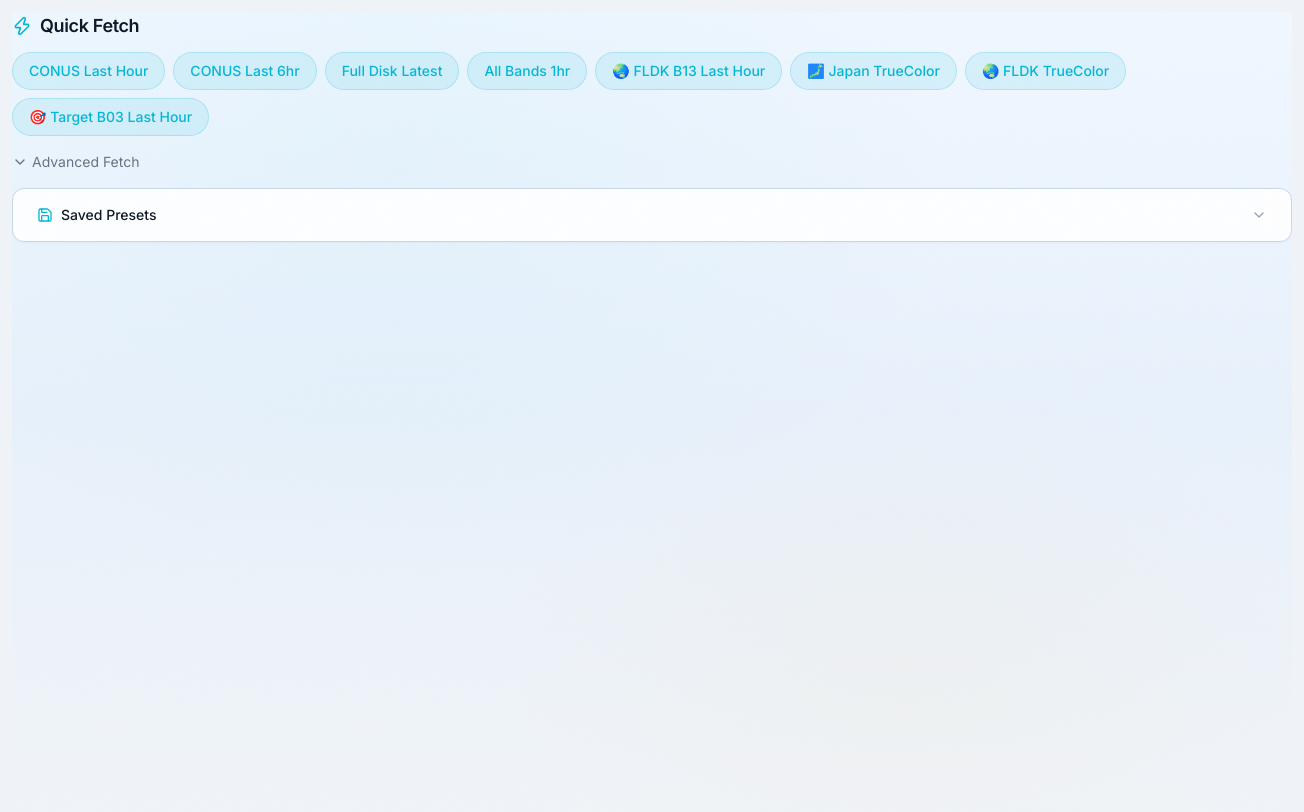
FetchFlowComplete › step navigation via step indicators
This screenshot has width=1304, height=812.
Step 1. Click the button with test id "advanced-fetch-toggle" → [76, 162], box [12,152,140,172]
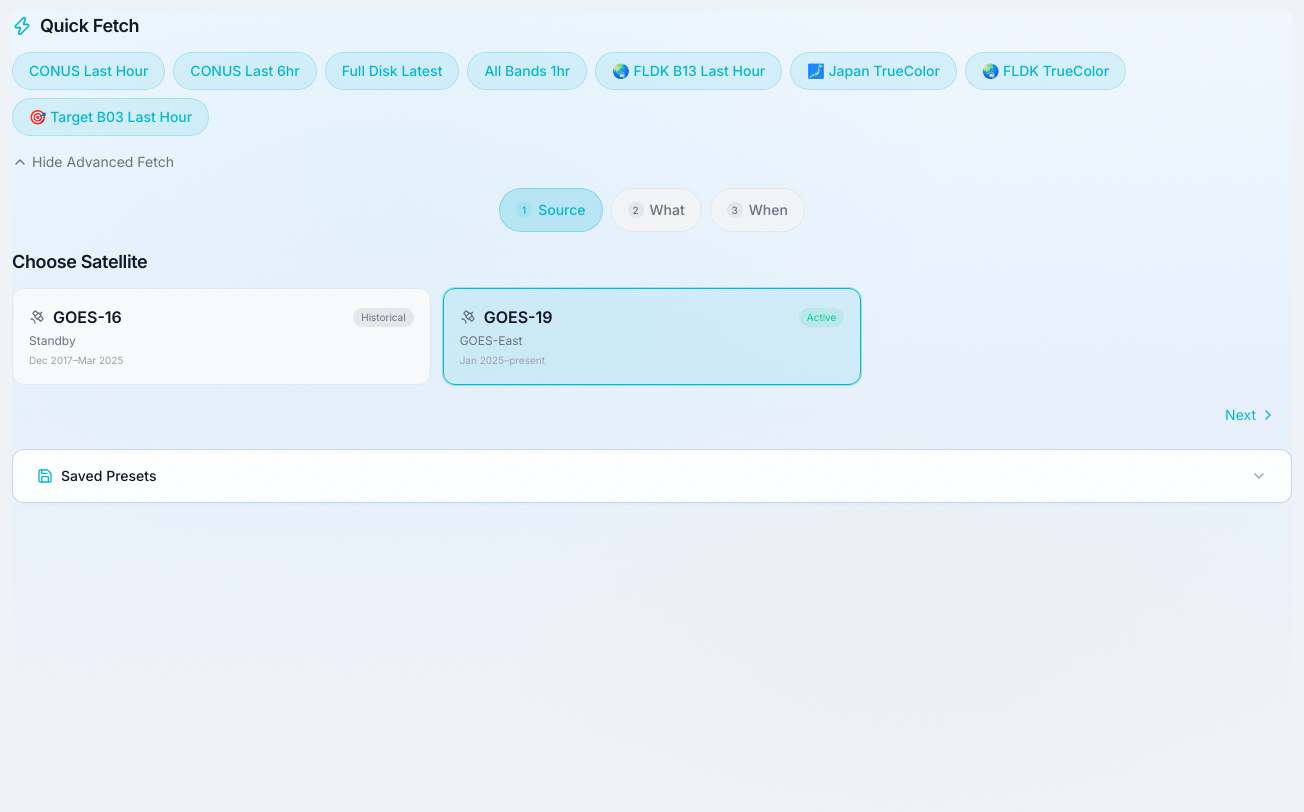
Result: the heading "Choose Satellite" is shown at [12,251,147,272]
Step 2. Click the button "3 When" → [757, 210], box [710,188,805,232]
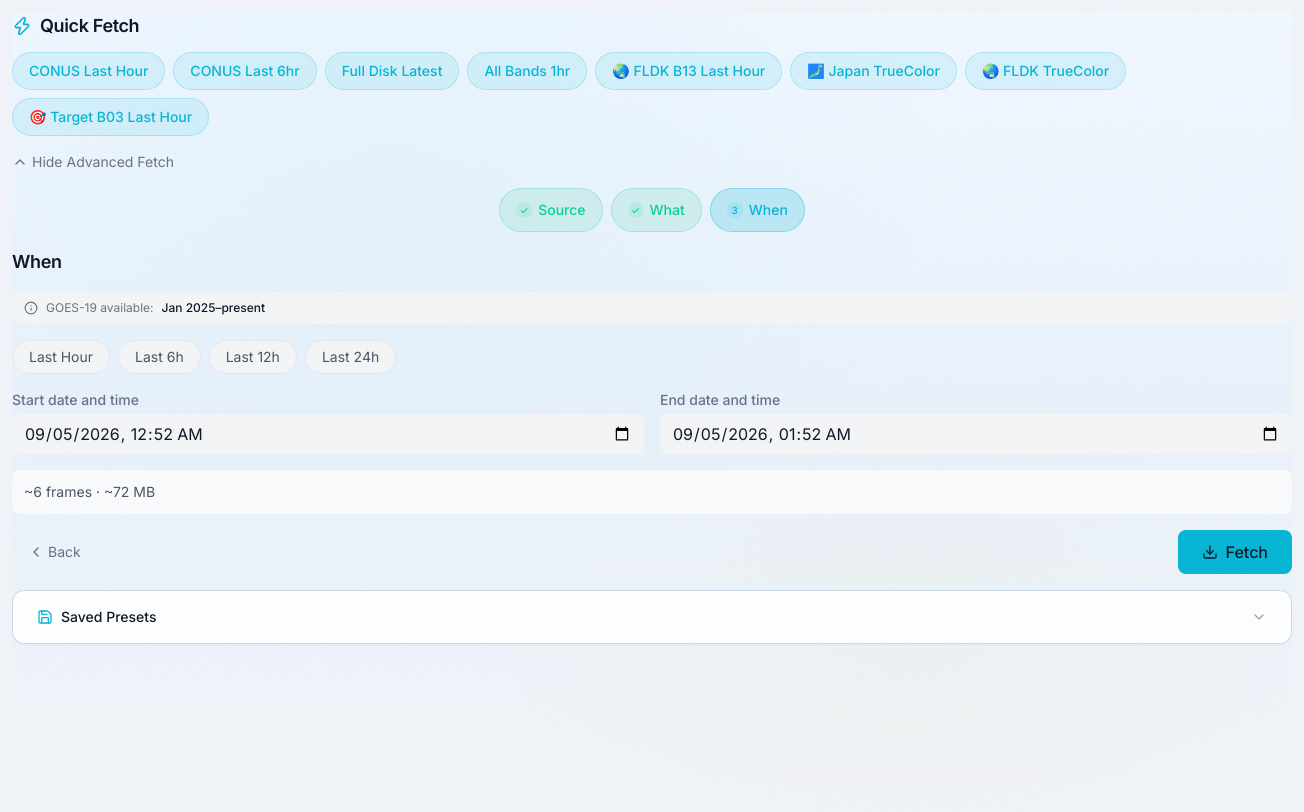
Result: the field labelled "Start date and time" is shown at [12,414,644,454]
